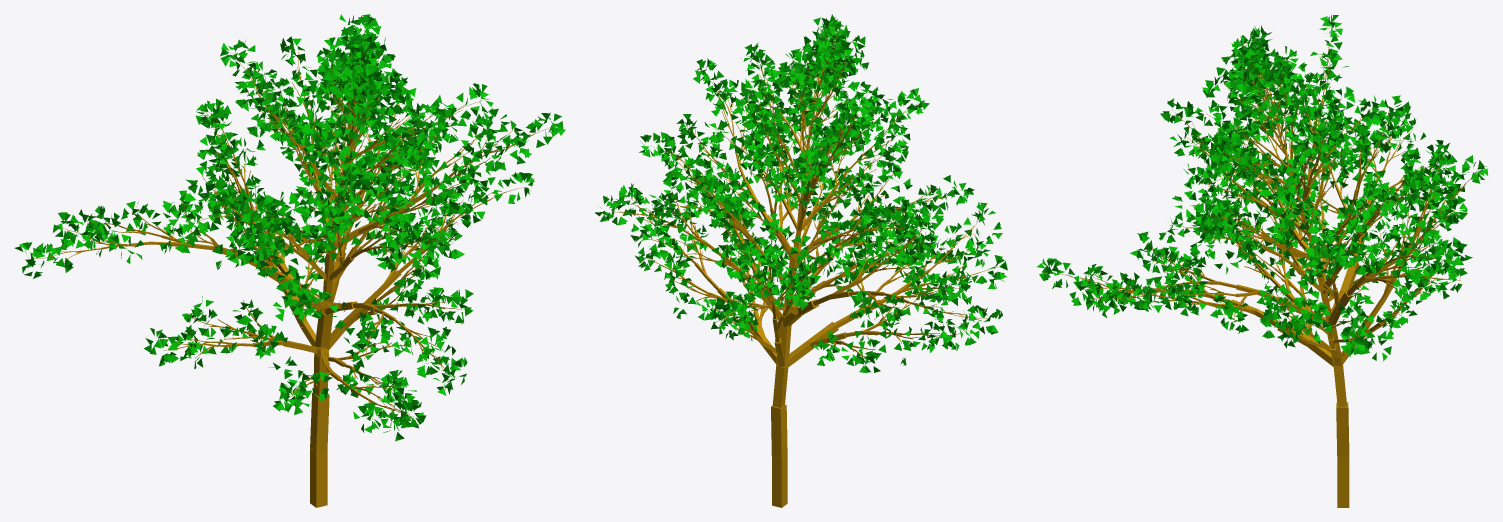
File: tree_10.glb
The picture shows the model from 3 angles, left to right: view 1: azimuth 30°, elevation 25°; view 2: azimuth 150°, elevation 25°; view 3: azimuth 270°, elevation 25°; orthographic projection. The views are drawn at different scales.
Visible parts, largest first — view 1: tree10__1; view 2: tree10__1; view 3: tree10__1.
Part boxes in pixels (left/top/right/bottom): tree10__1: left=14, top=14, right=565, bottom=507; tree10__1: left=595, top=14, right=1007, bottom=507; tree10__1: left=1037, top=14, right=1488, bottom=507.
Bounding box in the file's own units: 798 × 832 × 725.
